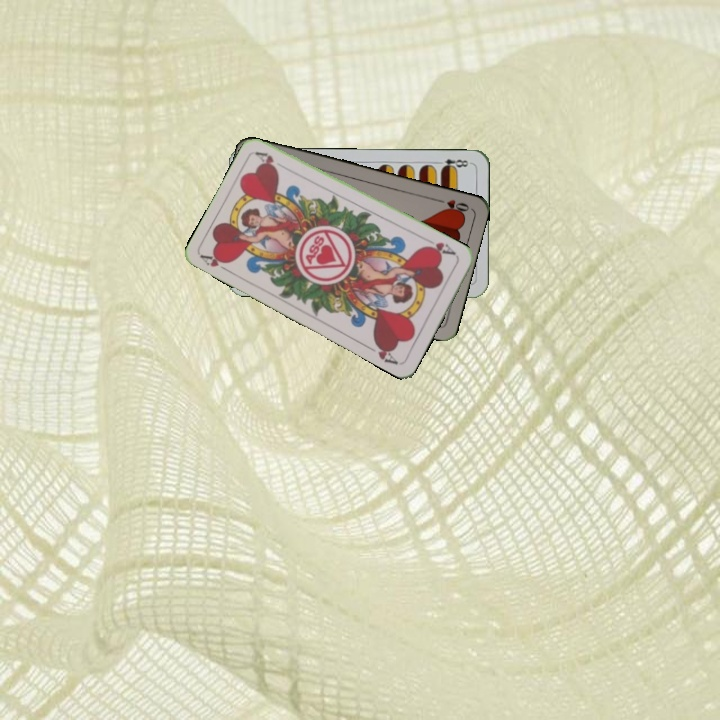E8: (432, 155, 473, 172)
HA: (420, 234, 459, 260), (197, 250, 236, 276)
HO: (433, 195, 472, 216)
